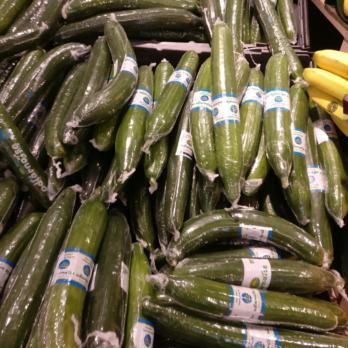Cucumber: (0, 0, 305, 347), (299, 132, 348, 348)
